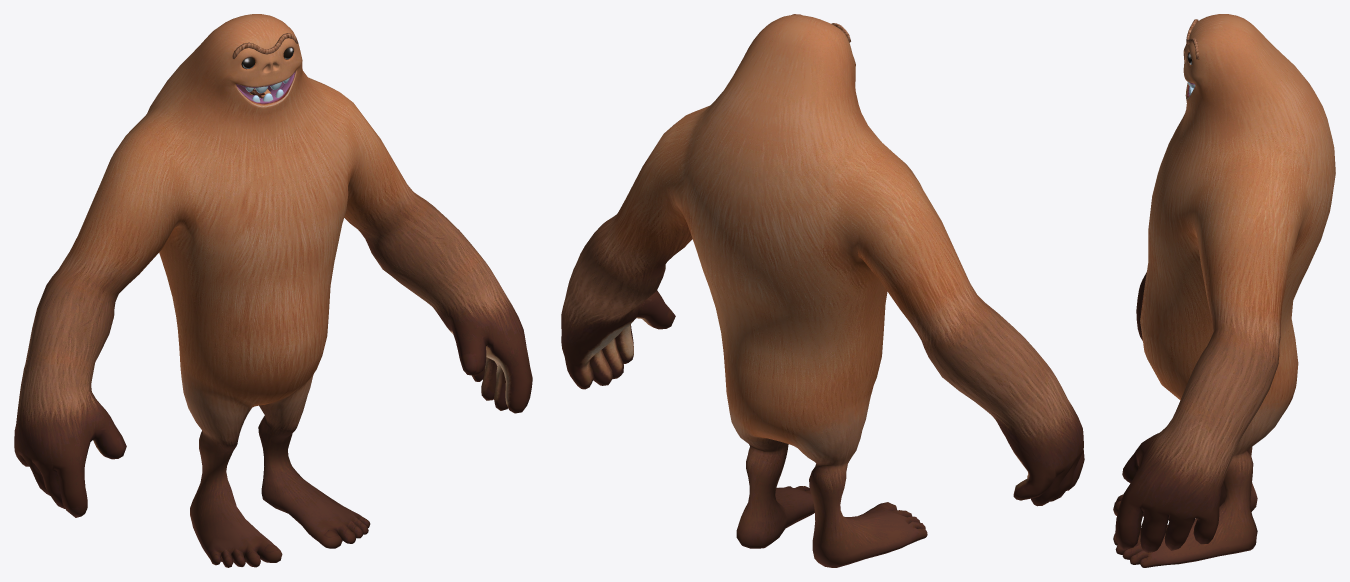
The model's file is BigBrownYeti.fbx.
3 renders of one model, left to right at view 1: azimuth 30°, elevation 25°; view 2: azimuth 150°, elevation 25°; view 3: azimuth 270°, elevation 25°, orthographic. The views are drawn at different scales.
Parts seen in each view (by area): view 1: node_id21; view 2: node_id21; view 3: node_id21.
Part boxes in pixels (<box>): node_id21: <box>14,14,532,567</box>; node_id21: <box>561,15,1084,567</box>; node_id21: <box>1113,14,1335,567</box>.
Size of the model in its own units: 0.512 by 0.5041 by 0.199.
Materials: 7 (7 with a texture image).
